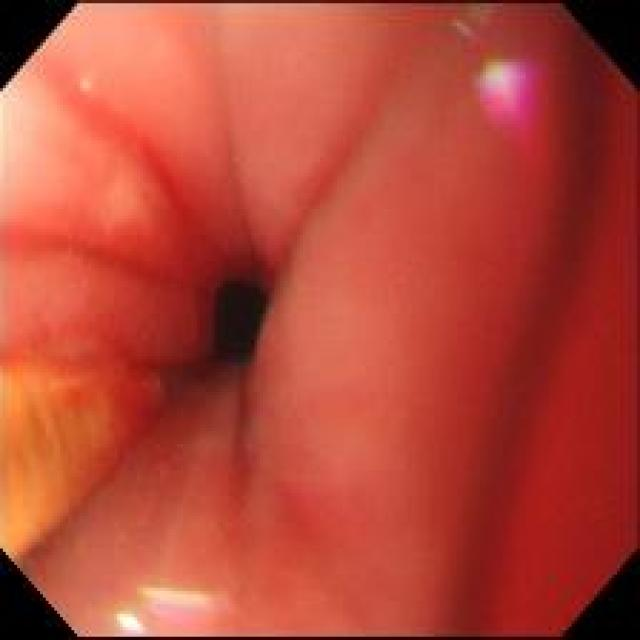color misalignment: (478, 60, 543, 139), (139, 580, 233, 624), (454, 5, 497, 49)
contrast: (202, 261, 270, 380)
instrument: (1, 358, 169, 560)
saturation: (2, 53, 83, 189)
specularity: (116, 608, 147, 635)
